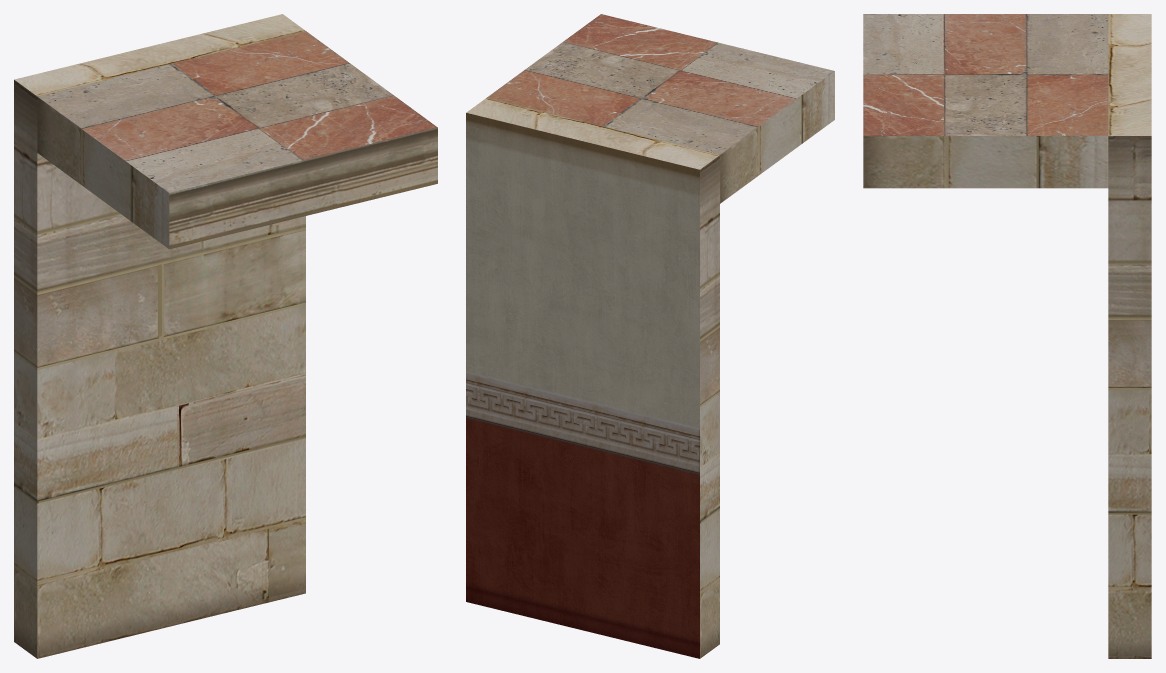
File: svspartawall5.dae
The picture shows the model from 3 angles, left to right: view 1: azimuth 30°, elevation 25°; view 2: azimuth 150°, elevation 25°; view 3: azimuth 270°, elevation 25°; orthographic projection. The views are drawn at different scales.
Parts seen in each view (by area): view 1: unnamed_object6_sep50-0; view 2: unnamed_object6_sep50-0; view 3: unnamed_object6_sep50-0.
Boxes of the visible parts, left/top/right/bottom form: unnamed_object6_sep50-0: left=14, top=14, right=437, bottom=658; unnamed_object6_sep50-0: left=466, top=14, right=834, bottom=658; unnamed_object6_sep50-0: left=863, top=14, right=1151, bottom=658.
Bounding box in the file's own units: 150 × 300 × 150.
